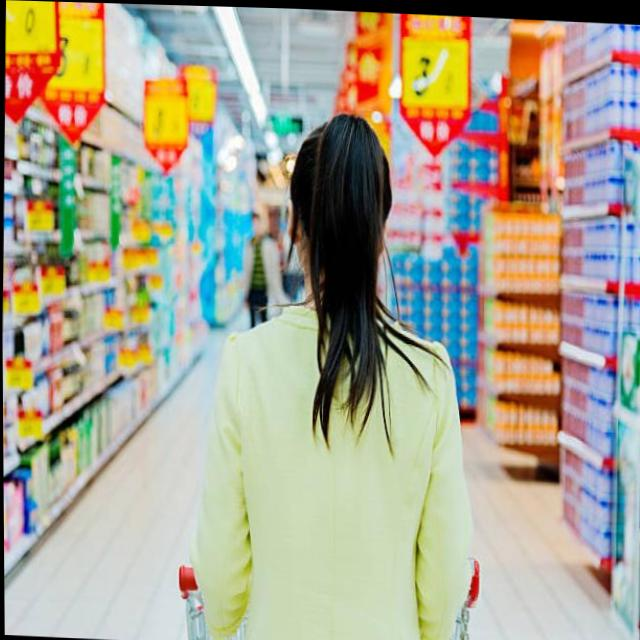no helmet: (286, 103, 389, 301)
